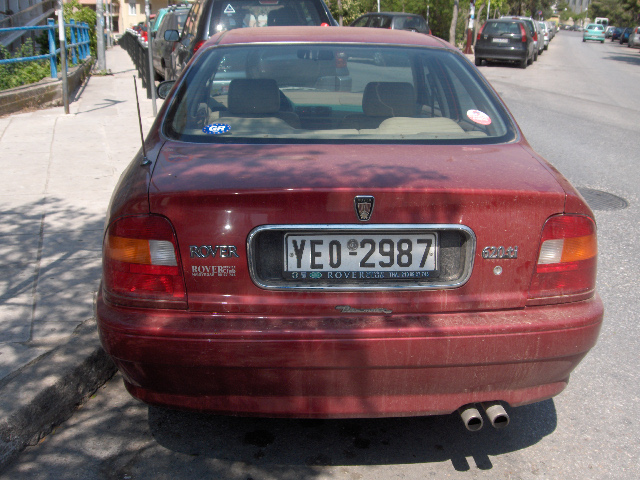licenseplate: (283, 229, 437, 273)
